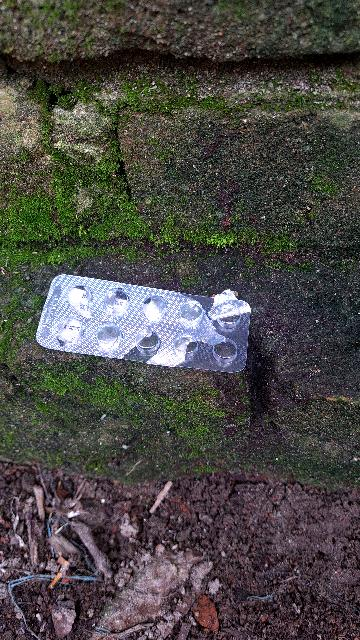medicine: (31, 262, 268, 381)
